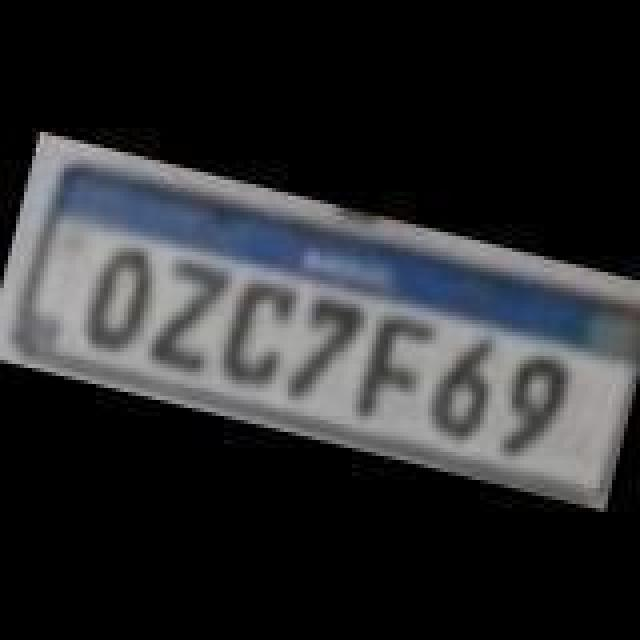6: (420, 324, 508, 444)
7: (280, 284, 368, 412)
9: (484, 336, 572, 464)
C: (214, 268, 298, 388)
F: (354, 302, 438, 434)
O: (78, 242, 154, 358)
Z: (148, 258, 236, 374)
